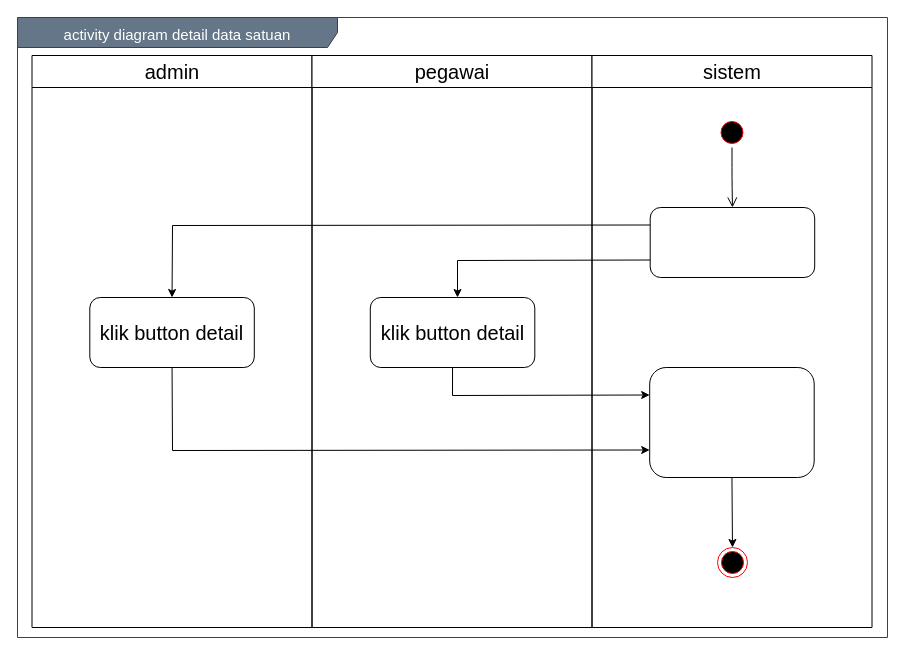
The diagram is 905 pixels wide and 655 high, and some of its shapes have lost their labels. Each missing label, with the centre of its shape:
"menampilkan data barang berdasarkan satuan yang dipilih" belongs at (731,422).
"menampilkan data satuan" belongs at (732,242).
